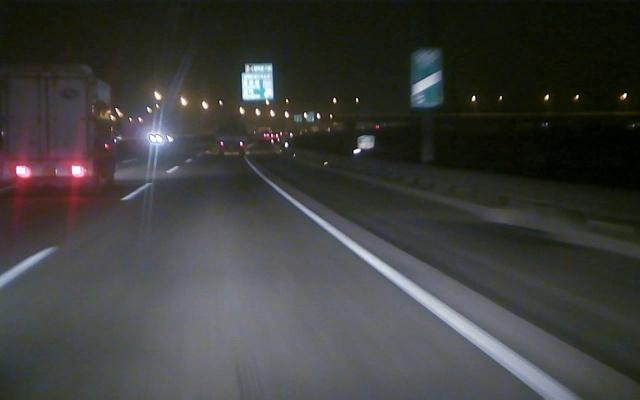lane: (265, 181, 582, 398), (1, 183, 154, 288), (414, 71, 440, 100)
